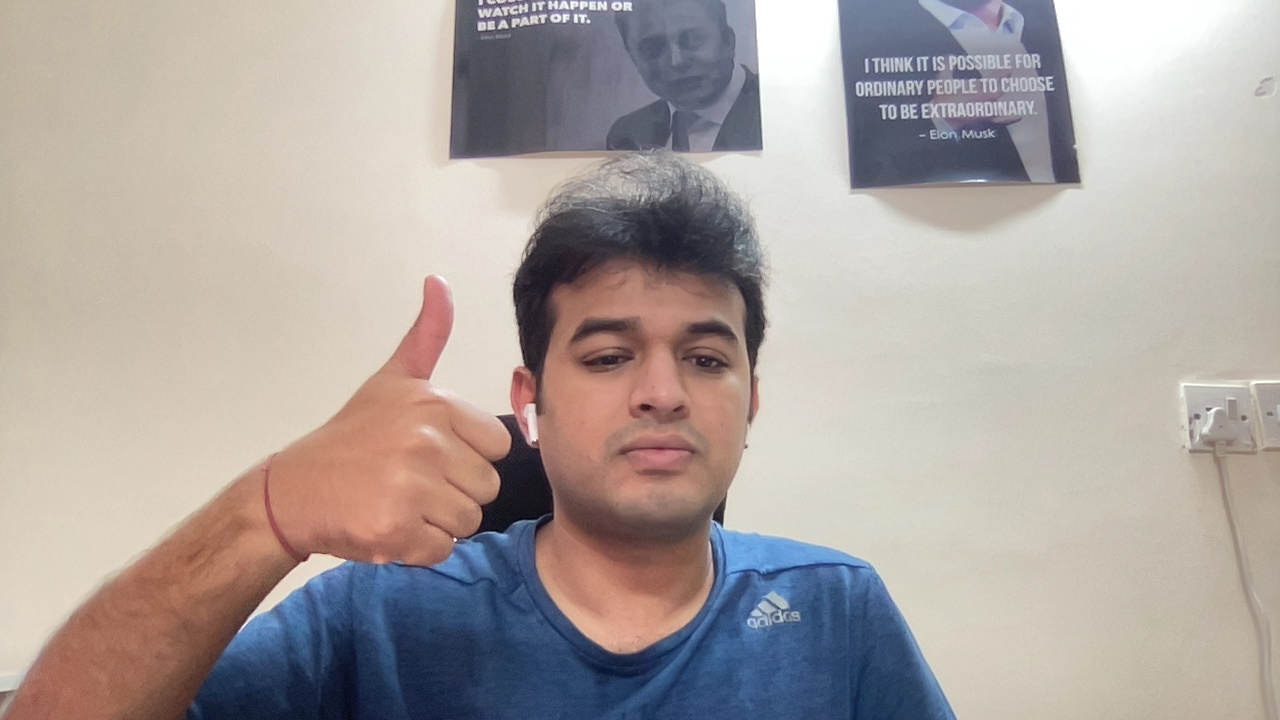up: (334, 263, 514, 581)
